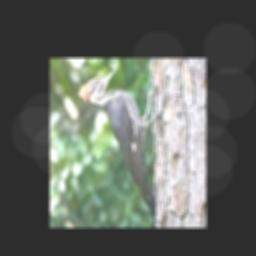Woodpecker: (78, 70, 157, 226)
